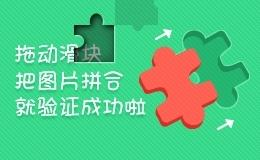target: (54, 6, 94, 44)
